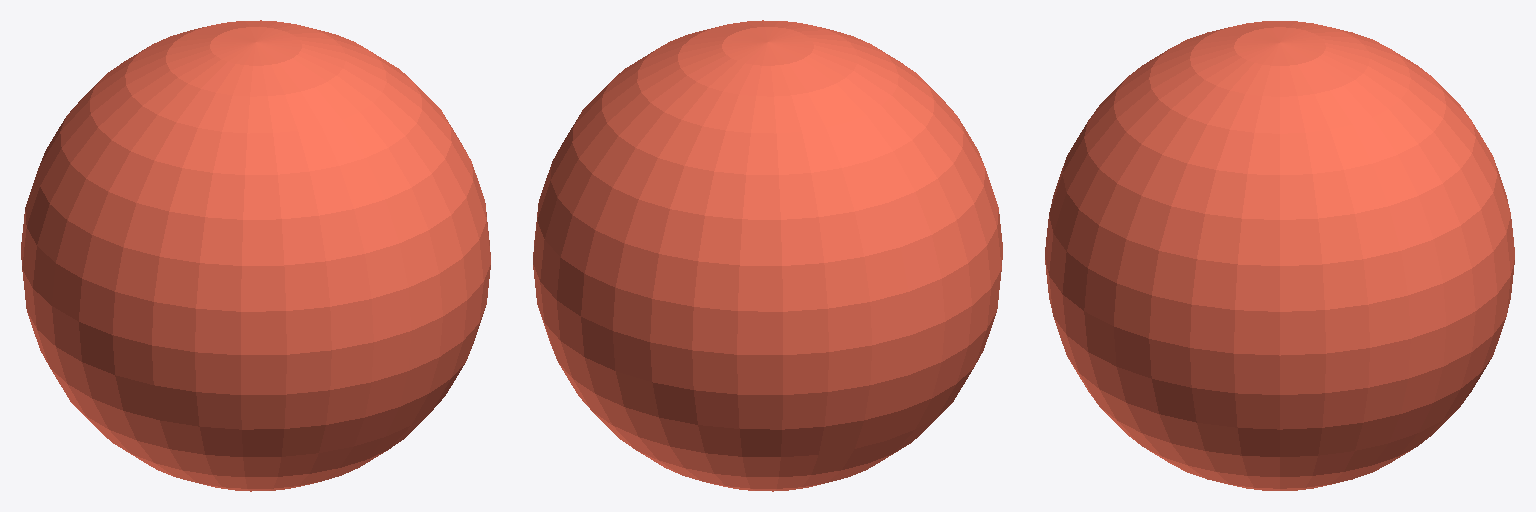
The robot description file, URDF, robot "ball":
<robot name="ball">
    <link name="base_link">
        <visual>
            <geometry>
                <sphere radius="0.08"/>
            </geometry>
            <material name="white">
                <color rgba="1 0.5 0.4 1"/>
            </material>
        </visual>
        <collision>
            <geometry>
                <sphere radius="0.08"/>
            </geometry>
        </collision>
    </link>
</robot>

--- Facts derived from the render (not from the file) ---
3 views of the same robot in one strip: view 1: azimuth 30°, elevation 25°; view 2: azimuth 150°, elevation 25°; view 3: azimuth 270°, elevation 25° (orthographic).
Model ball with 1 links and 0 joints (none), rooted at base_link, posed all joints at 0.
Visible links, largest first — view 1: base_link; view 2: base_link; view 3: base_link.
Boxes of the visible links, x1,y1,x2,y2 form: base_link: (21, 20, 490, 491); base_link: (533, 20, 1002, 491); base_link: (1045, 21, 1514, 490).
Size in the robot's own frame: 0.16 by 0.16 by 0.16 metres.
Geometry: primitives only (box / cylinder / sphere), no mesh files.